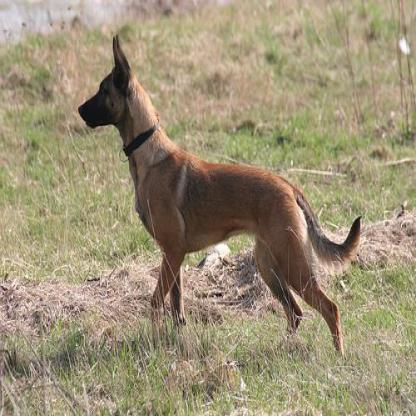malinois: (76, 34, 360, 358)
